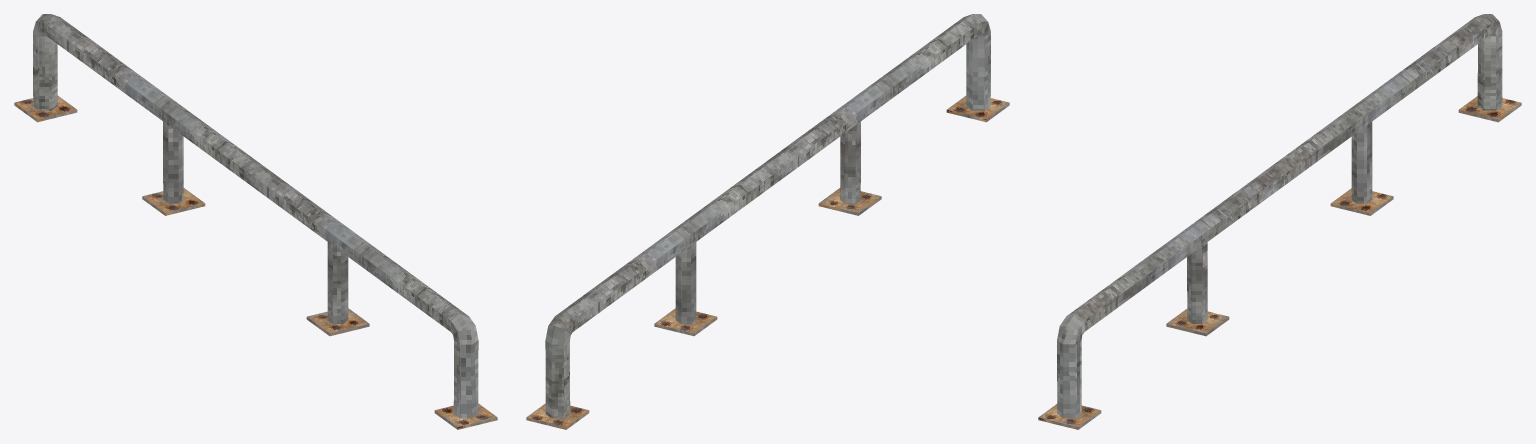
The model's file is psx_style_grind_rail.glb.
3 views of the same model, side by side, from view 1: azimuth 30°, elevation 25°; view 2: azimuth 150°, elevation 25°; view 3: azimuth 330°, elevation 25° (orthographic).
Parts seen in each view (by area): view 1: rust_30; view 2: rust_30; view 3: rust_30.
Part boxes in pixels (x1,y1,x2,y2): rust_30: (14, 14, 497, 429); rust_30: (526, 14, 1009, 429); rust_30: (1038, 14, 1521, 429).
Bounding box in the file's own units: 0.113 × 0.2681 × 2.17.
Materials: 2 (2 with a texture image).
